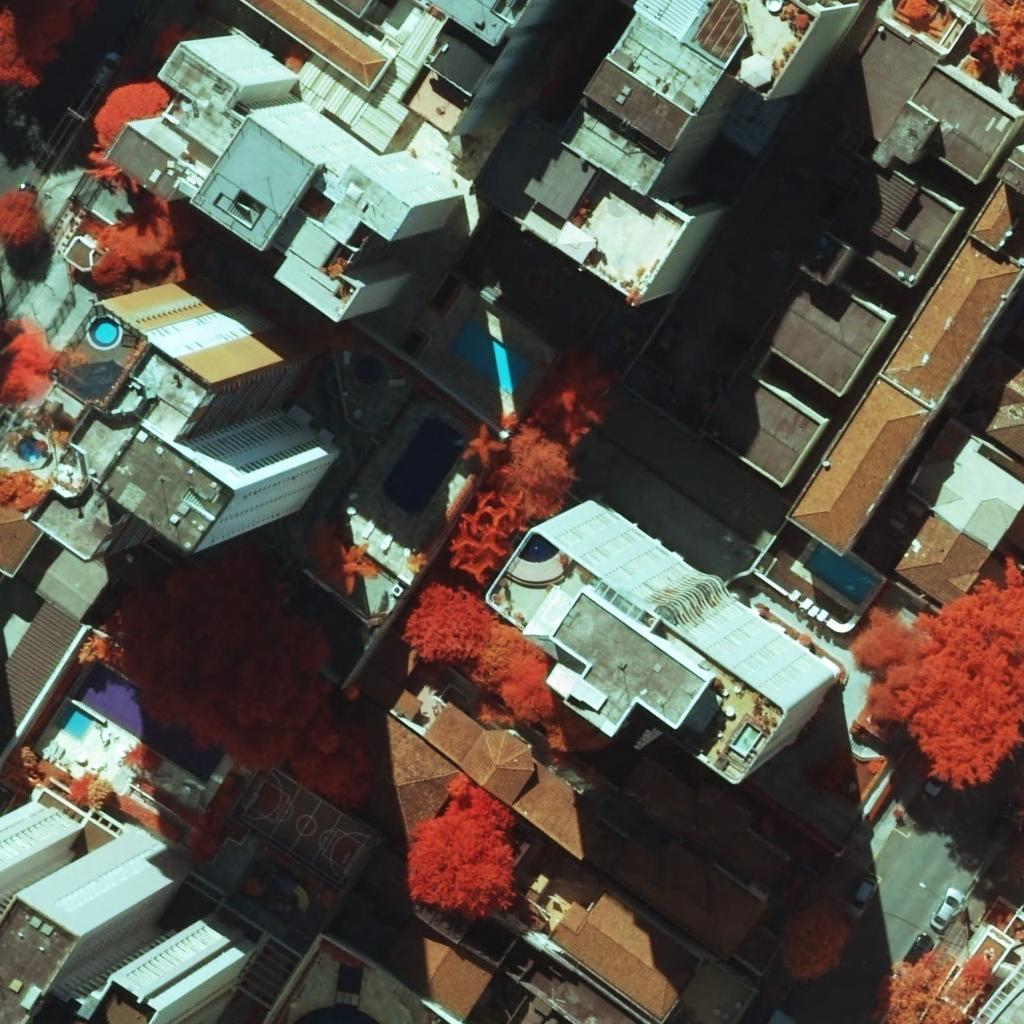pool: (74, 662, 224, 782), (383, 418, 462, 517), (454, 321, 530, 395), (803, 544, 876, 605), (293, 1007, 380, 1024), (57, 704, 94, 740), (90, 316, 119, 347)
